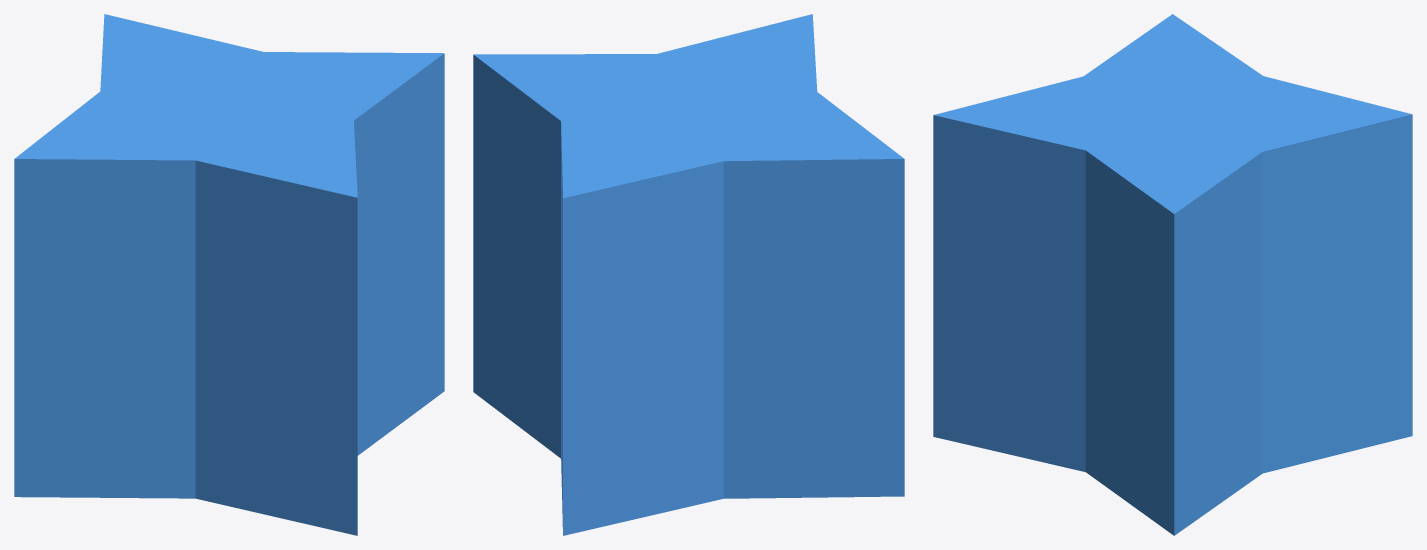
The picture shows the model from 3 angles, left to right: view 1: azimuth 30°, elevation 25°; view 2: azimuth 150°, elevation 25°; view 3: azimuth 270°, elevation 25°; orthographic projection. The views are drawn at different scales.
Parts seen in each view (by area): view 1: node0; view 2: node0; view 3: node0.
Part boxes in pixels (x1,y1,x2,y2): node0: (14, 14, 444, 535); node0: (473, 14, 904, 535); node0: (933, 14, 1412, 535).
Size of the model in its own units: 0.0801 by 0.081 by 0.06.
